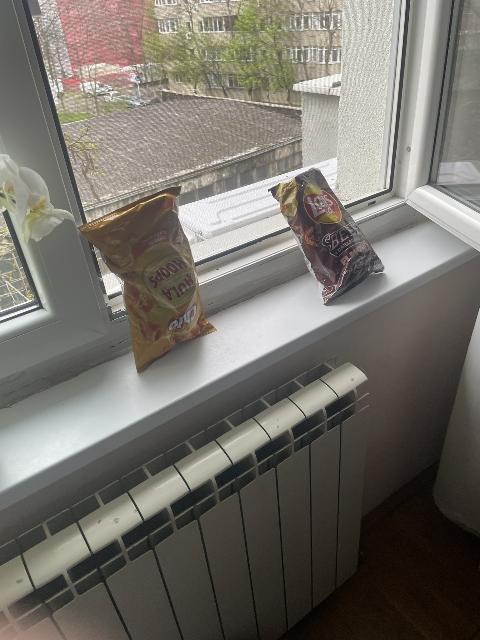Chio Hula Hoops Cheese 70g: (77, 187, 217, 367)
Lays Beef Grilled Ribs 125g: (271, 167, 380, 303)
